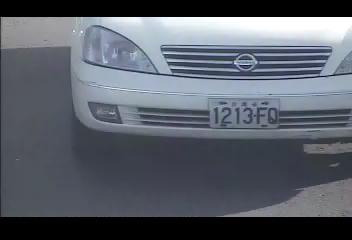plate: (206, 96, 281, 130)
